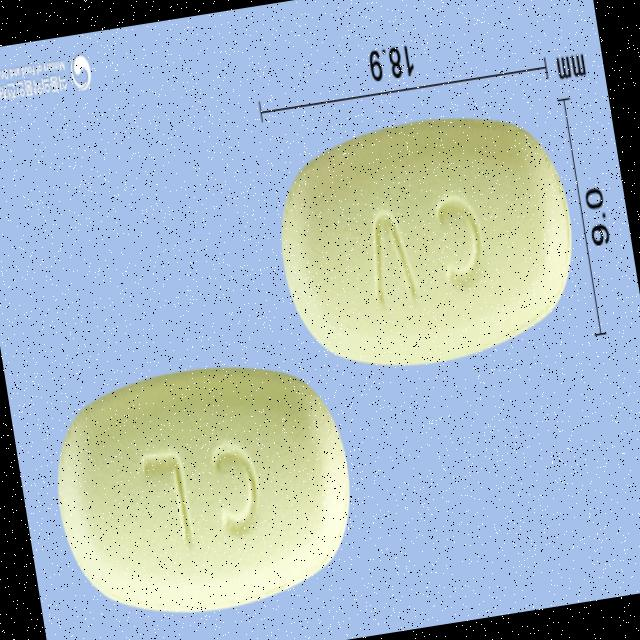Cllaricin: (259, 100, 592, 390), (42, 350, 370, 638)
